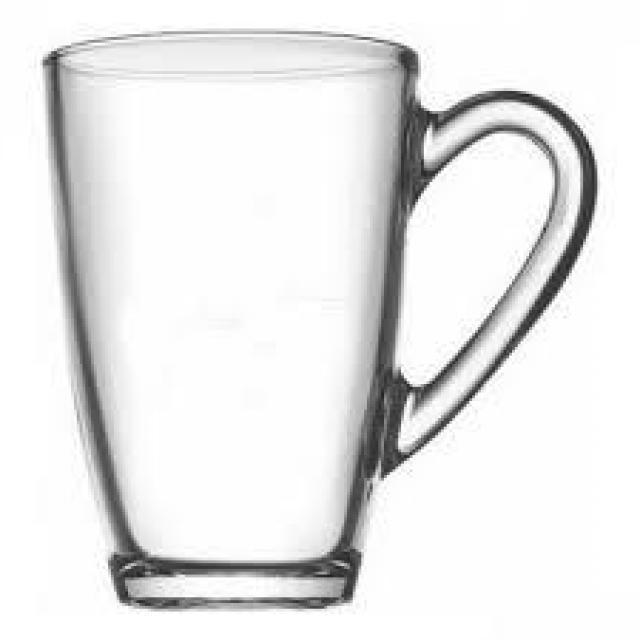glass: (42, 28, 600, 609)
